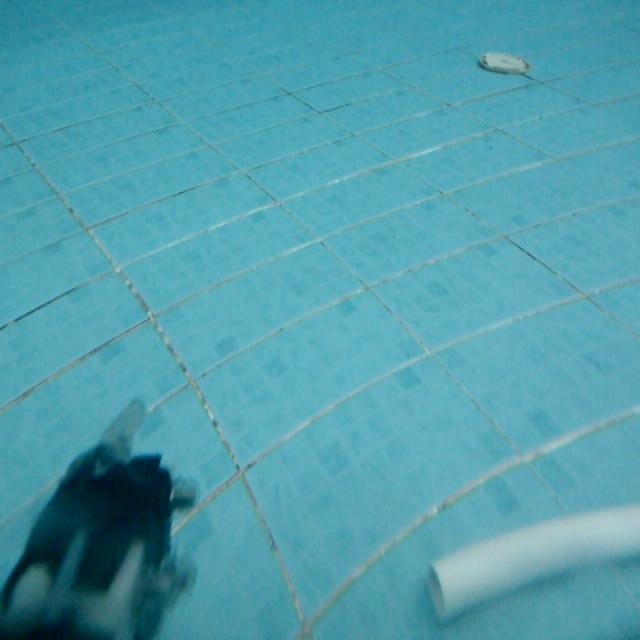Cube: (423, 493, 639, 628)
